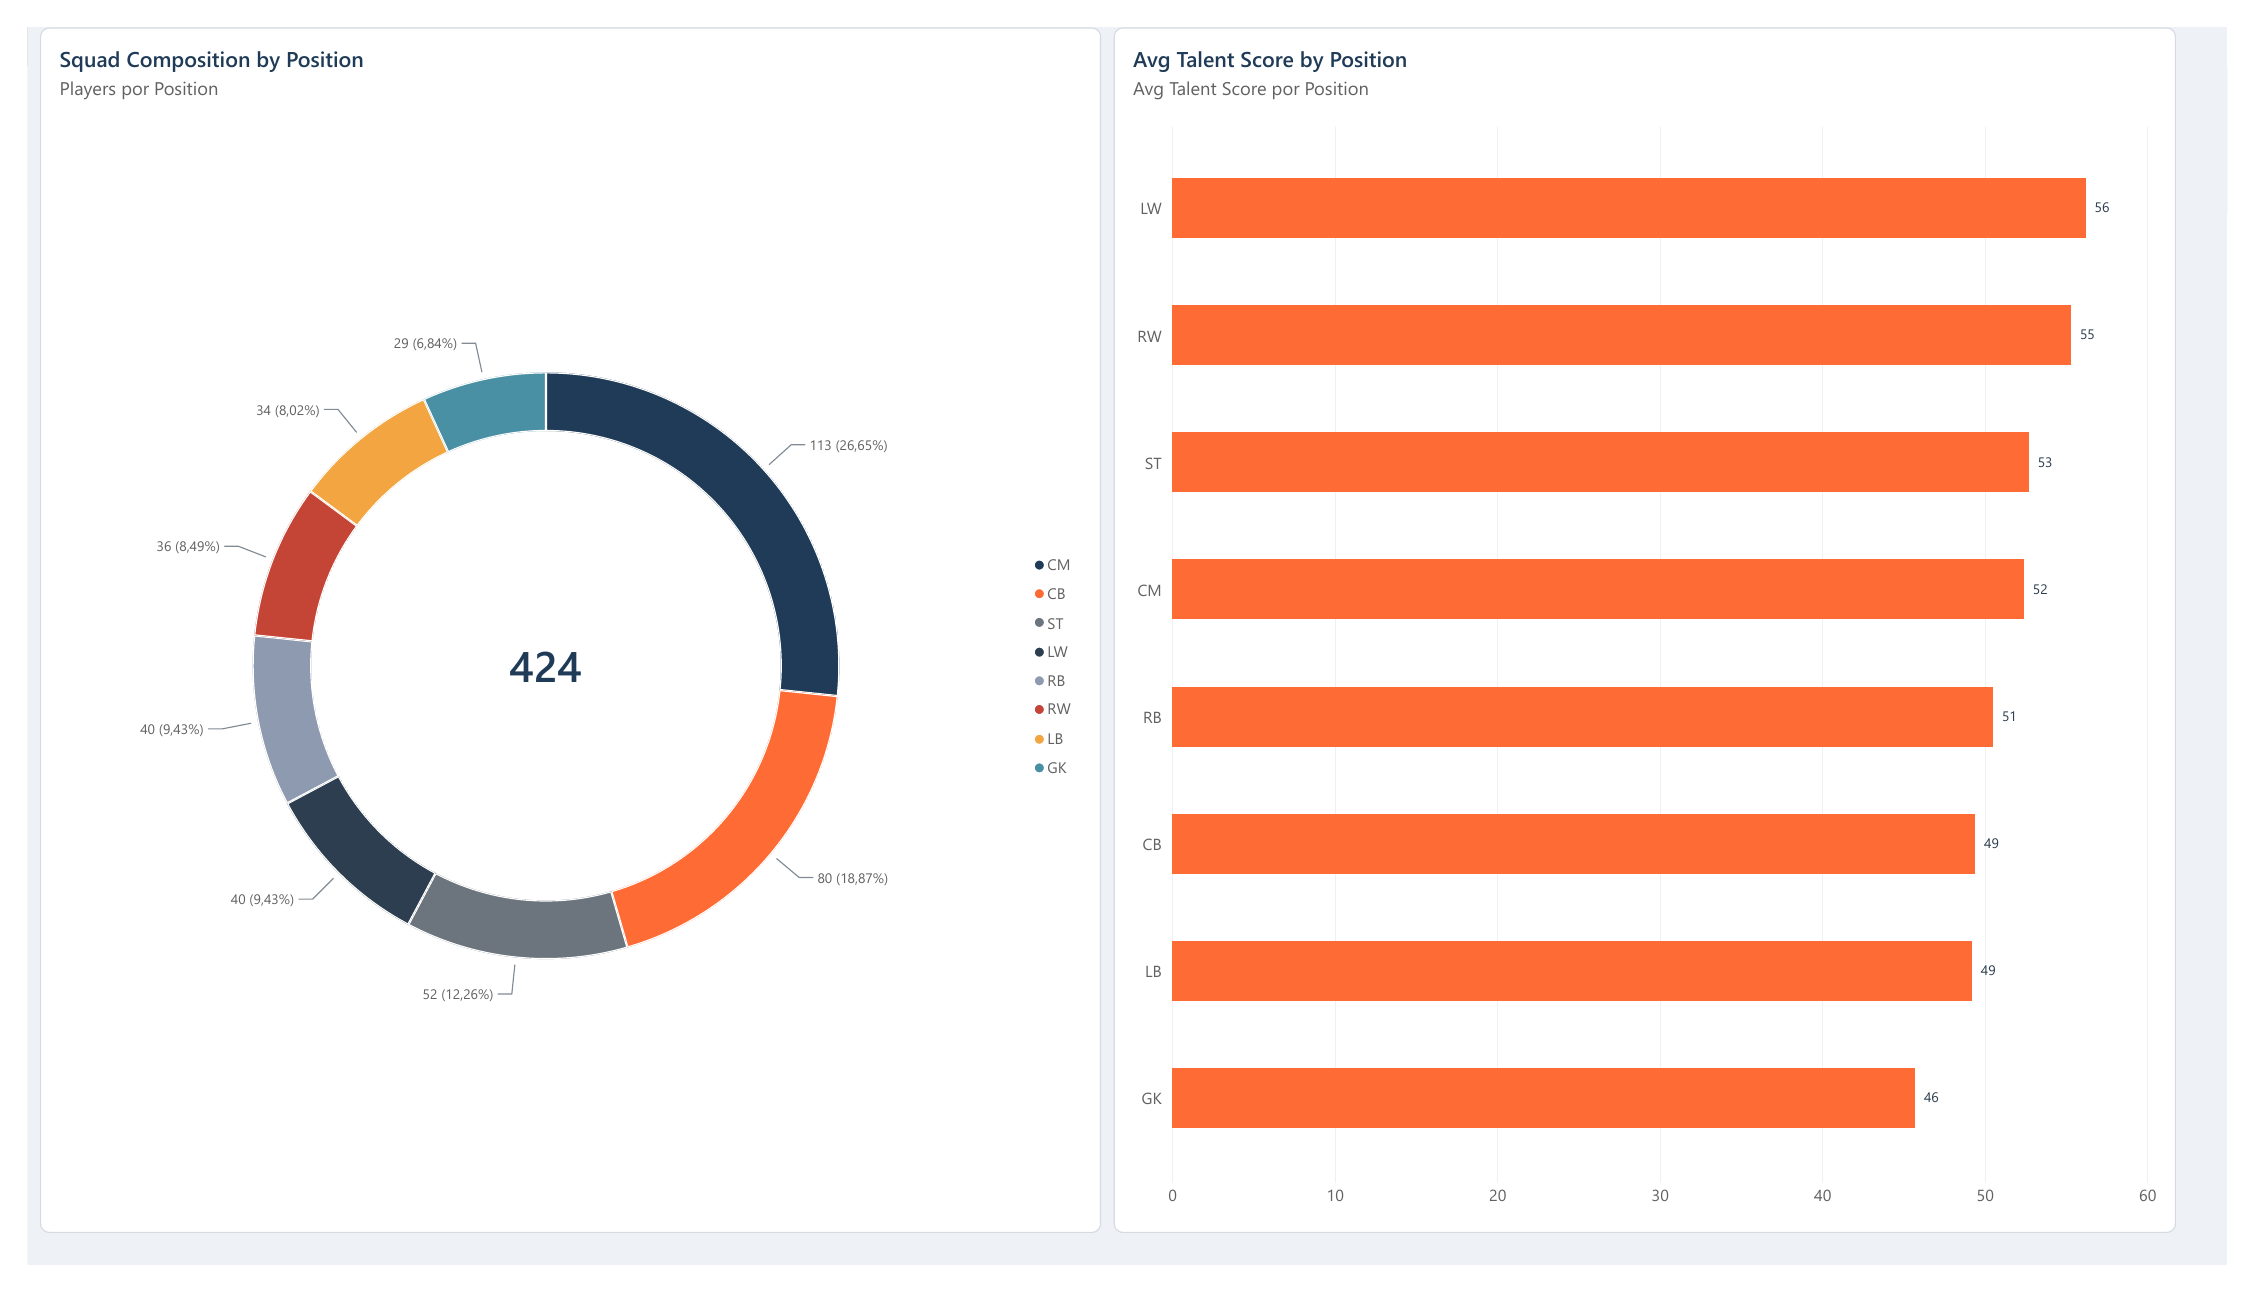

The page's visual inventory and layout, read from the dashboard file:
{"tool":"powerbi","page":{"name":"Positions","canvas":[1920,1080],"ordinal":3},"visuals":[{"type":"donutChart","title":"Squad Composition by Position","fields":{"Category":["players_laliga_real_150.Position"],"Y":["players_laliga_real_150.Players"]},"box":[10.8,0,926.6,1051.9],"z":0},{"type":"clusteredBarChart","title":"Avg Talent Score by Position","fields":{"Category":["players_laliga_real_150.Position"],"Y":["players_laliga_real_150.Avg Talent Score"]},"box":[948,0,927,1052],"z":1}]}

Visuals, with their boxes in screenshot pixels (x1, y1, x2, y2), scaled from the page's 1920x1080 canvas onto the 2255x1293 screenshot:
"Squad Composition by Position" donutChart: select_region(13, 0, 1101, 1259)
"Avg Talent Score by Position" clusteredBarChart: select_region(1113, 0, 2202, 1259)
